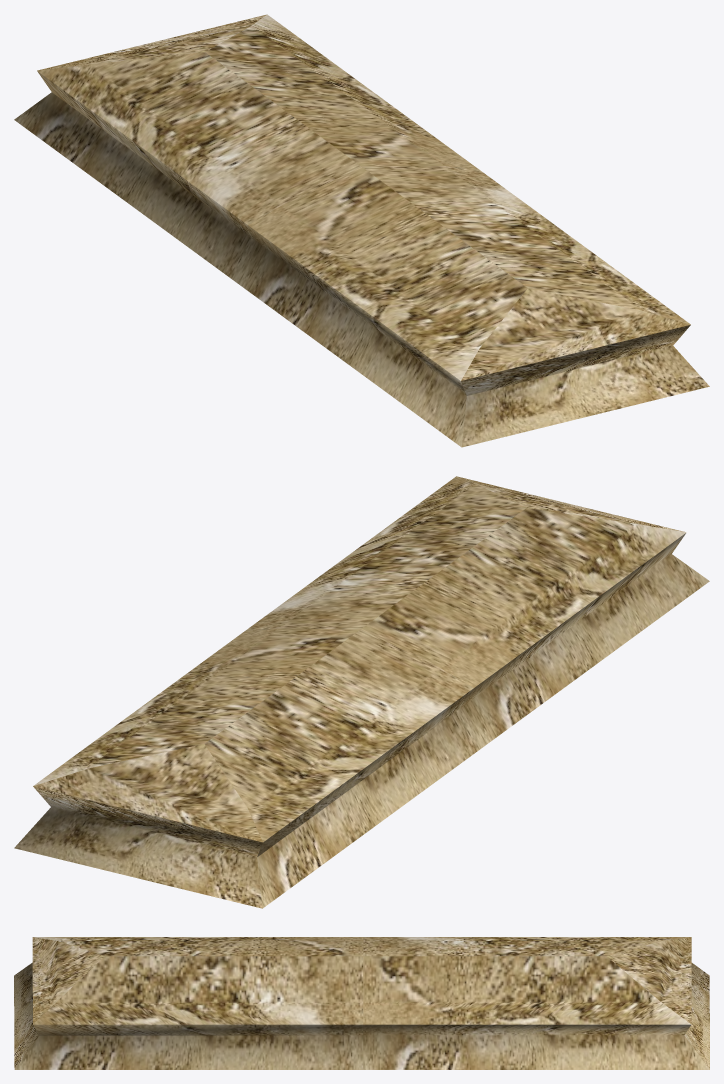
Rendered from pir_m_prp_cem_tombLid_2.fbx.
3 renders of one model, top to bottom at view 1: azimuth 30°, elevation 25°; view 2: azimuth 150°, elevation 25°; view 3: azimuth 270°, elevation 25°, orthographic. The views are drawn at different scales.
Visible parts, largest first — view 1: lod_high; view 2: lod_high; view 3: lod_high.
Boxes of the visible parts, x1=… form: lod_high: x1=14, y1=14, x2=709, y2=447; lod_high: x1=14, y1=476, x2=709, y2=908; lod_high: x1=14, y1=937, x2=709, y2=1069.
Size of the model in its own units: 255 by 84.02 by 795.
1 material, 1 textured.
